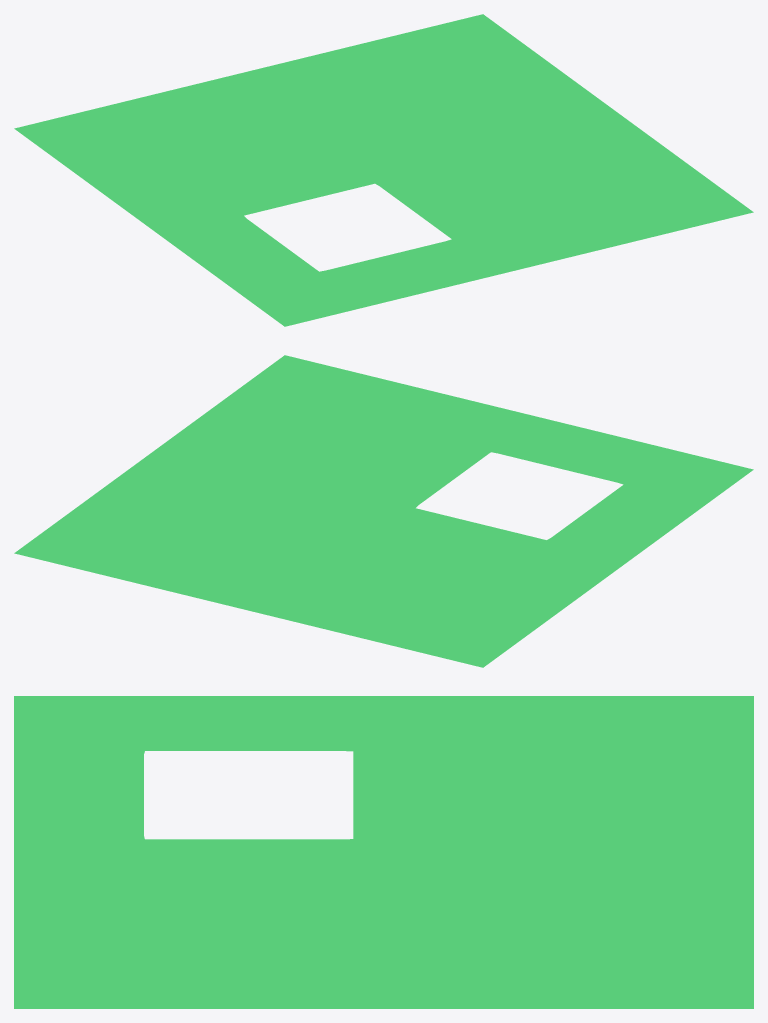
The model's file is upbge-sample-level-01-navmesh.glb.
3 views of the same model, one above another, from view 1: azimuth 30°, elevation 25°; view 2: azimuth 150°, elevation 25°; view 3: azimuth 270°, elevation 25° (orthographic). The views are drawn at different scales.
Visible parts, largest first — view 1: navMesh; view 2: navMesh; view 3: navMesh.
Boxes of the visible parts, bbox=[...] form: navMesh: bbox=[14, 14, 753, 326]; navMesh: bbox=[14, 355, 753, 667]; navMesh: bbox=[14, 696, 753, 1008].
Size of the model in its own units: 198 by 0 by 198.
